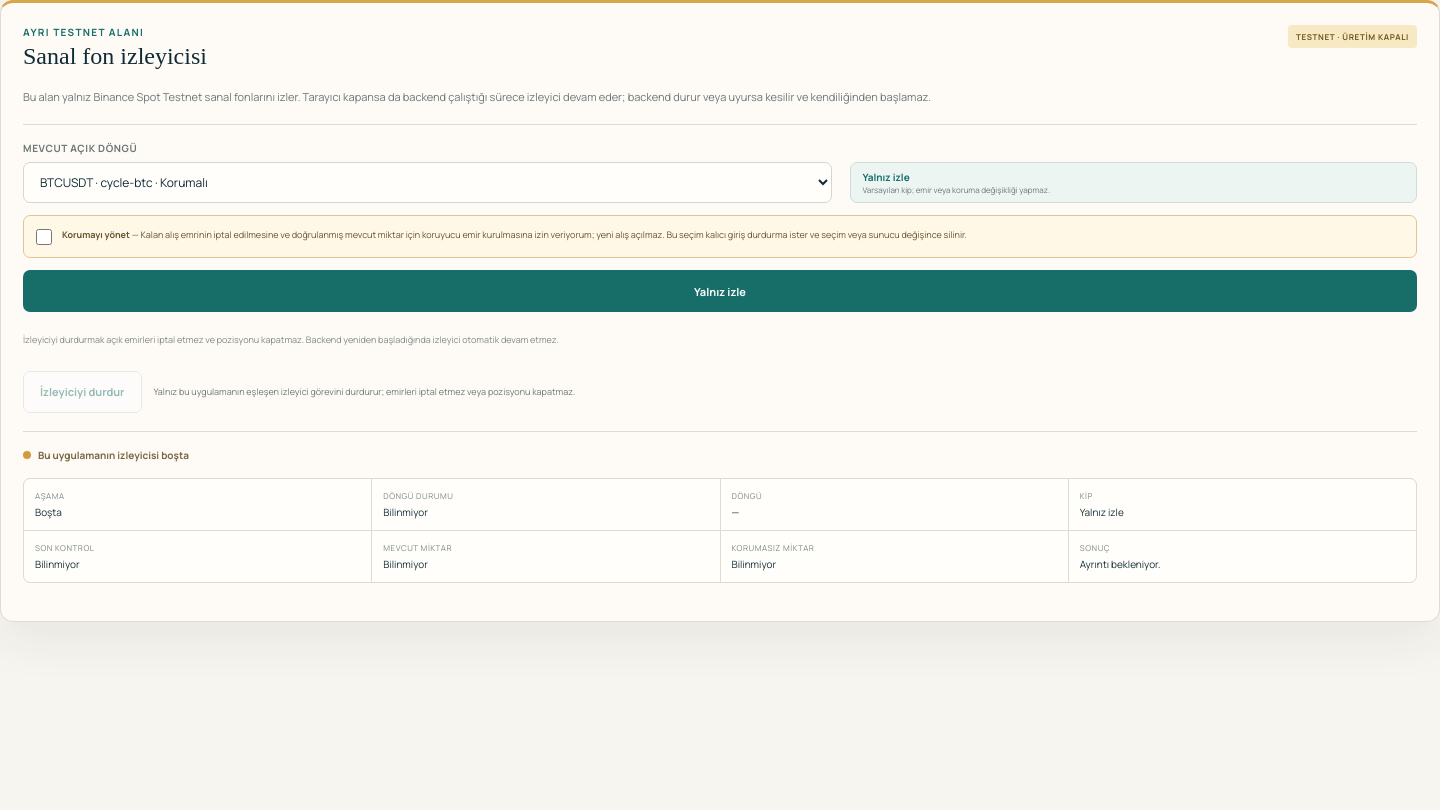
Test: TestnetPanel › 403 kontrol yanıtını kendiliğinden yinelemez ve yeni onay ister
Click the button "Yalnız izle" at (720, 291), box [23,270,1417,312]
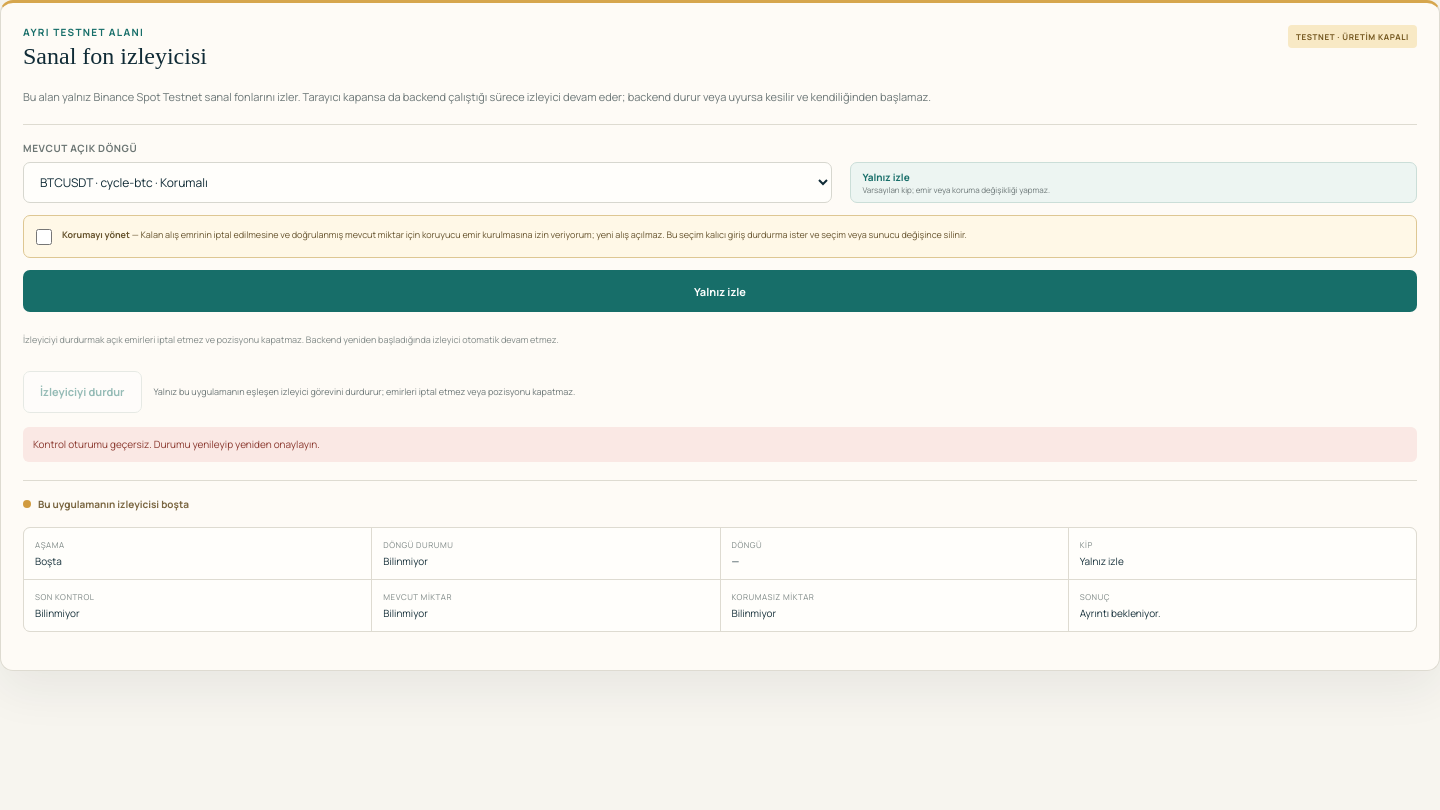
Check: the text "Kontrol oturumu geçersiz. Durumu yenileyip yeniden onaylayın." is shown, box [23,426,1417,462]
